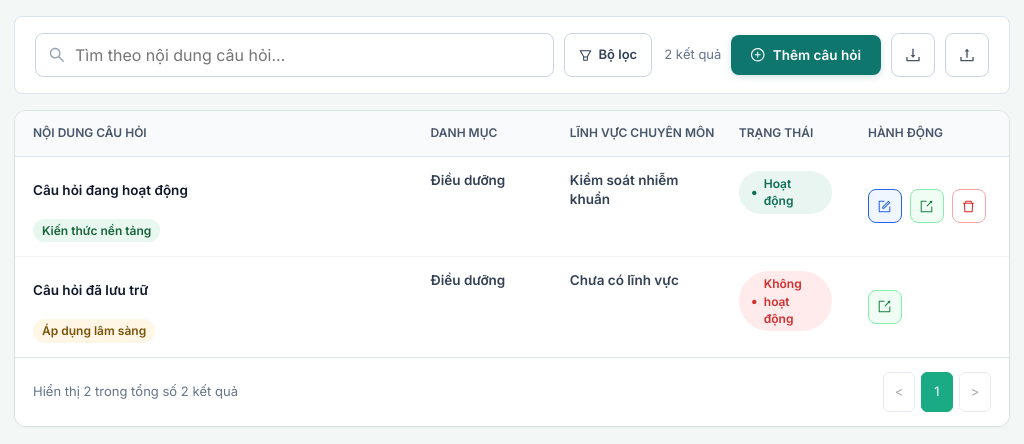
Test: QuestionBankListPage - tìm kiếm, lọc, phân trang › tìm theo nội dung sau debounce 300ms
expect the button "Câu hỏi đang hoạt động" is shown: met, box [33, 171, 395, 211]
Type "lưu trữ" into the field labelled "Tìm theo nội dung câu hỏi" at (307, 55), box [75, 43, 540, 67]
Wait 300 ms
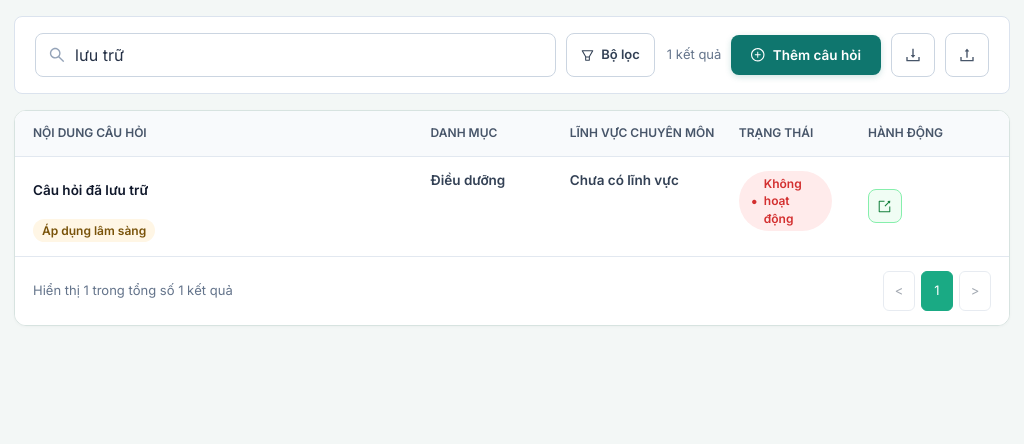
expect the button "Câu hỏi đã lưu trữ" is shown: met, box [33, 171, 395, 211]
expect the button "Câu hỏi đang hoạt động" is gone: met
Replace the text in the field named "Tìm theo nội dung câu hỏi" with "không khớp" at (309, 55), box [75, 43, 542, 67]
Wait 300 ms
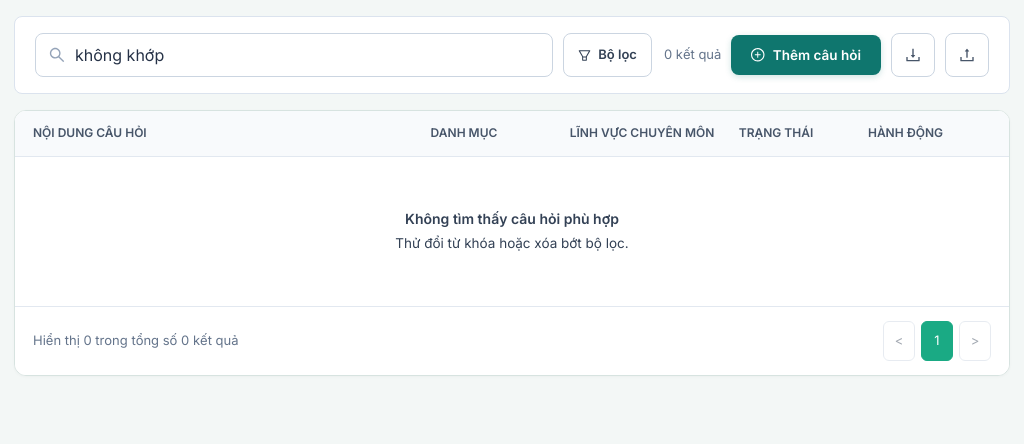
expect the text "Không tìm thấy câu hỏi phù hợp" is shown: met, box [405, 210, 619, 227]
